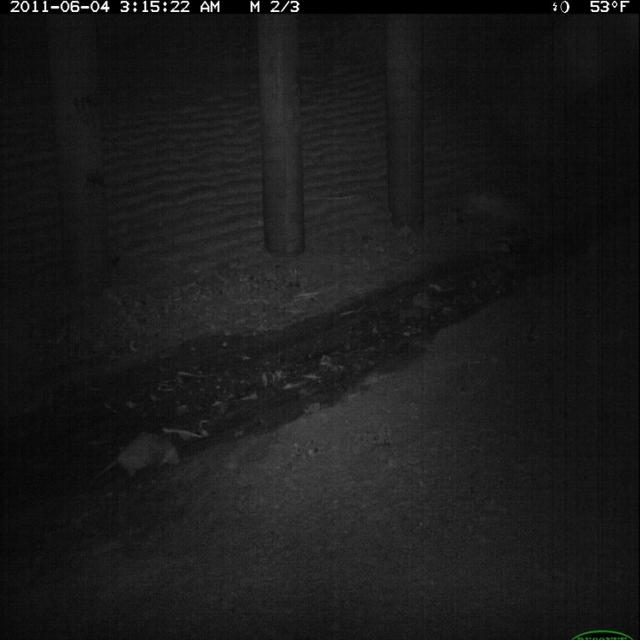opossum: (87, 424, 186, 484)
